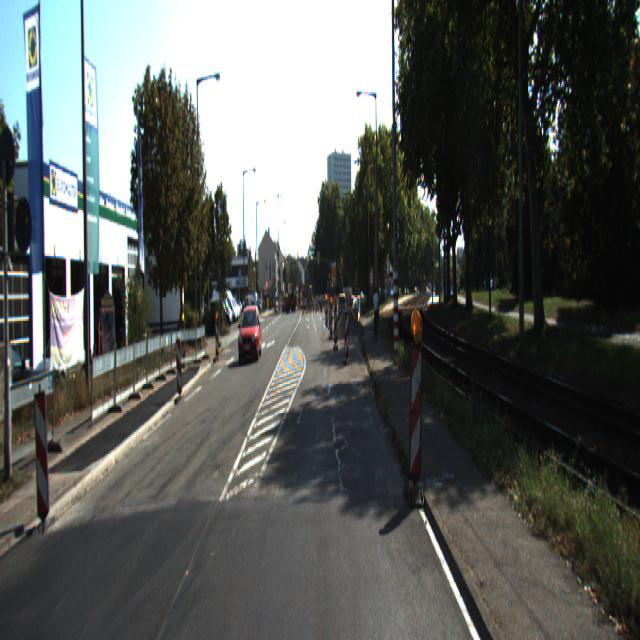Car: (236, 304, 263, 362)
